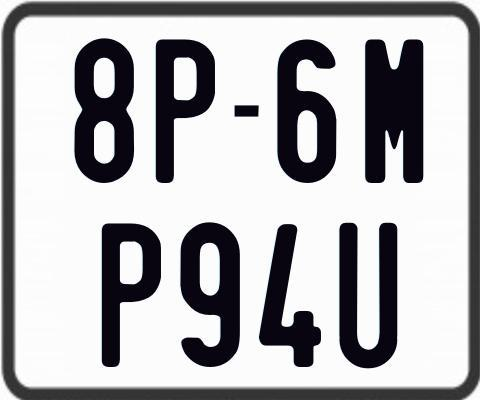4: (257, 222, 321, 371)
6: (276, 40, 337, 185)
8: (73, 38, 139, 186)
9: (179, 221, 242, 368)
M: (365, 37, 424, 183)
P: (101, 221, 164, 370), (155, 39, 216, 184)
U: (338, 223, 401, 372)
